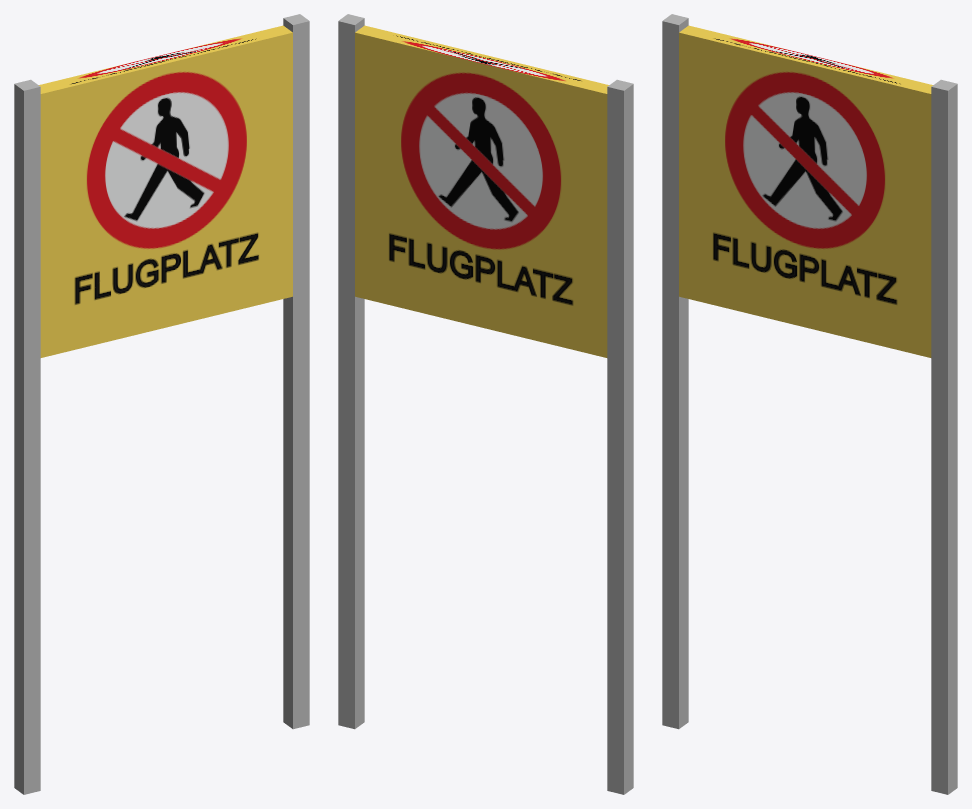
The model's file is FlugplatzSign_LOD00.gltf.
3 views of the same model, side by side, from view 1: azimuth 30°, elevation 25°; view 2: azimuth 150°, elevation 25°; view 3: azimuth 330°, elevation 25° (orthographic).
Visible parts, largest first — view 1: Cube.001, Cube, Cube.002; view 2: Cube.001, Cube, Cube.002; view 3: Cube.001, Cube.002, Cube.
Part boxes in pixels (x1,y1,x2,y2): Cube.001: [39, 25, 292, 357]; Cube: [14, 79, 40, 794]; Cube.002: [283, 14, 309, 729]; Cube.001: [355, 25, 608, 357]; Cube: [607, 79, 633, 794]; Cube.002: [338, 14, 364, 729]; Cube.001: [679, 25, 932, 357]; Cube.002: [931, 79, 957, 794]; Cube: [662, 14, 688, 729].
Bounding box in the file's own units: 0.85 × 2 × 0.05.
